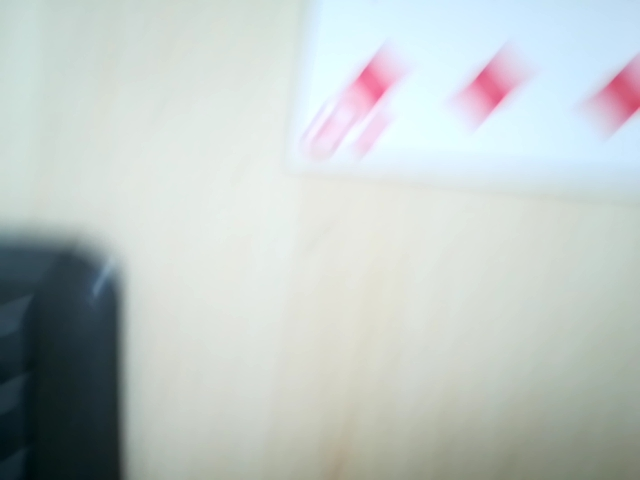fk 6: (322, 19, 565, 179), (301, 49, 403, 177)
